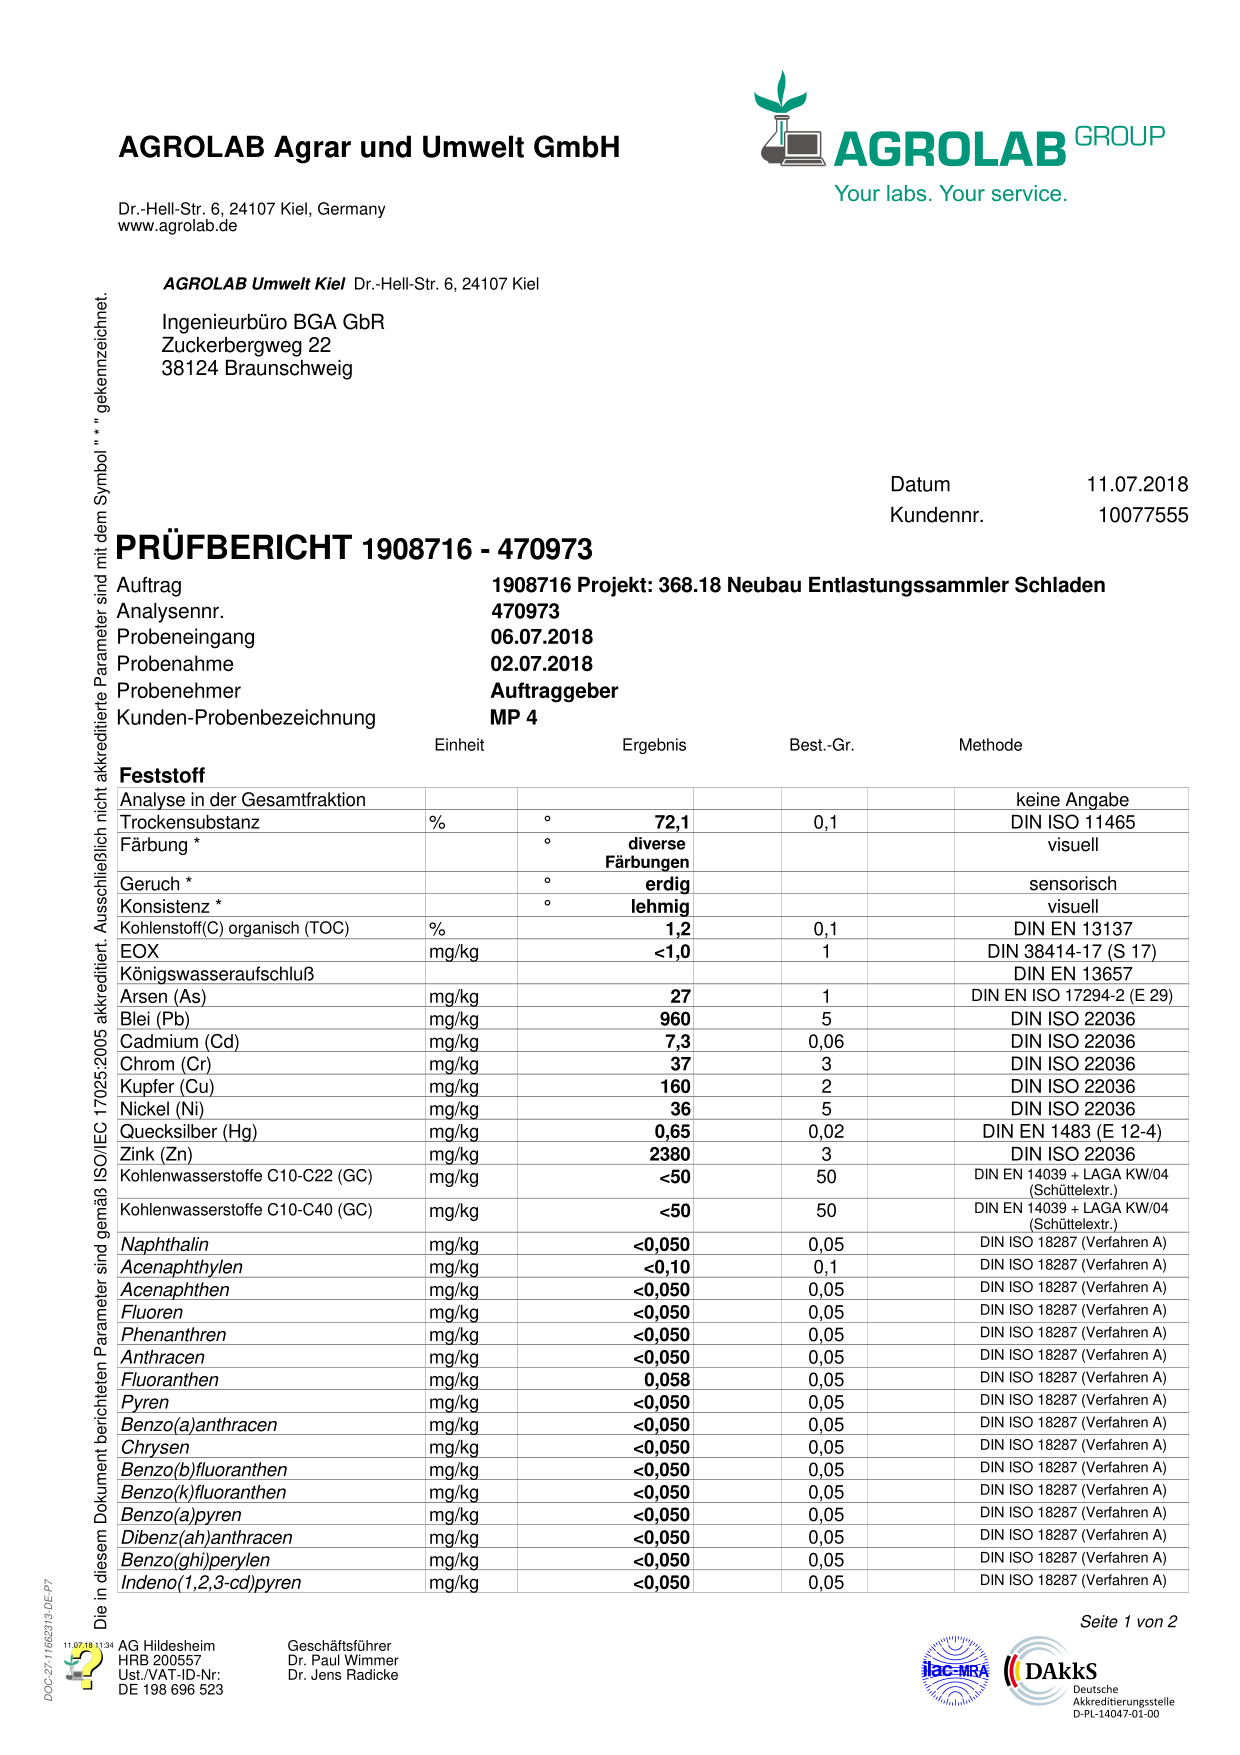table: (107, 782, 1196, 1601)
